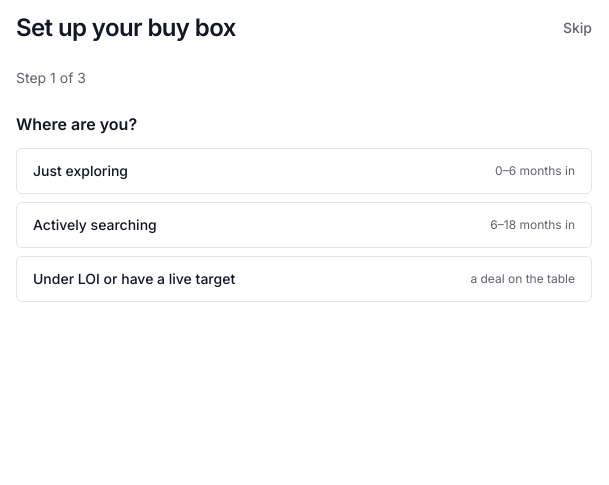
Test: Onboarding (PRD §6.2) › advances to the buy-box step for active searchers
The width and height of the screenshot is (609, 485).
Click the button "Actively searching 6–18 months in": (95, 224) [16, 202, 592, 248]
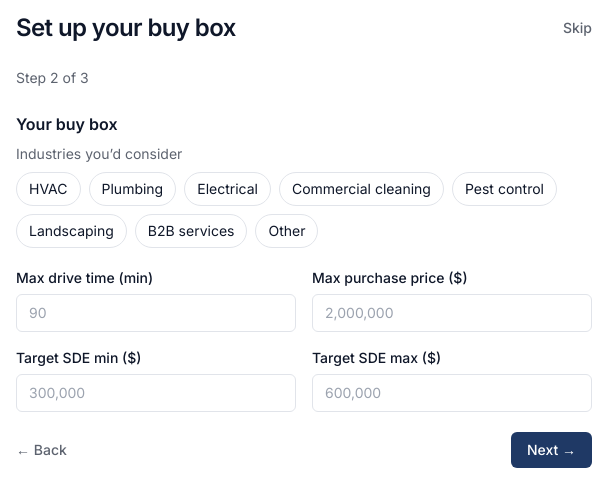
expect the text "Step 2 of 3" is shown: met, box [16, 69, 89, 86]
expect the heading "Your buy box" is shown: met, box [16, 114, 118, 134]
